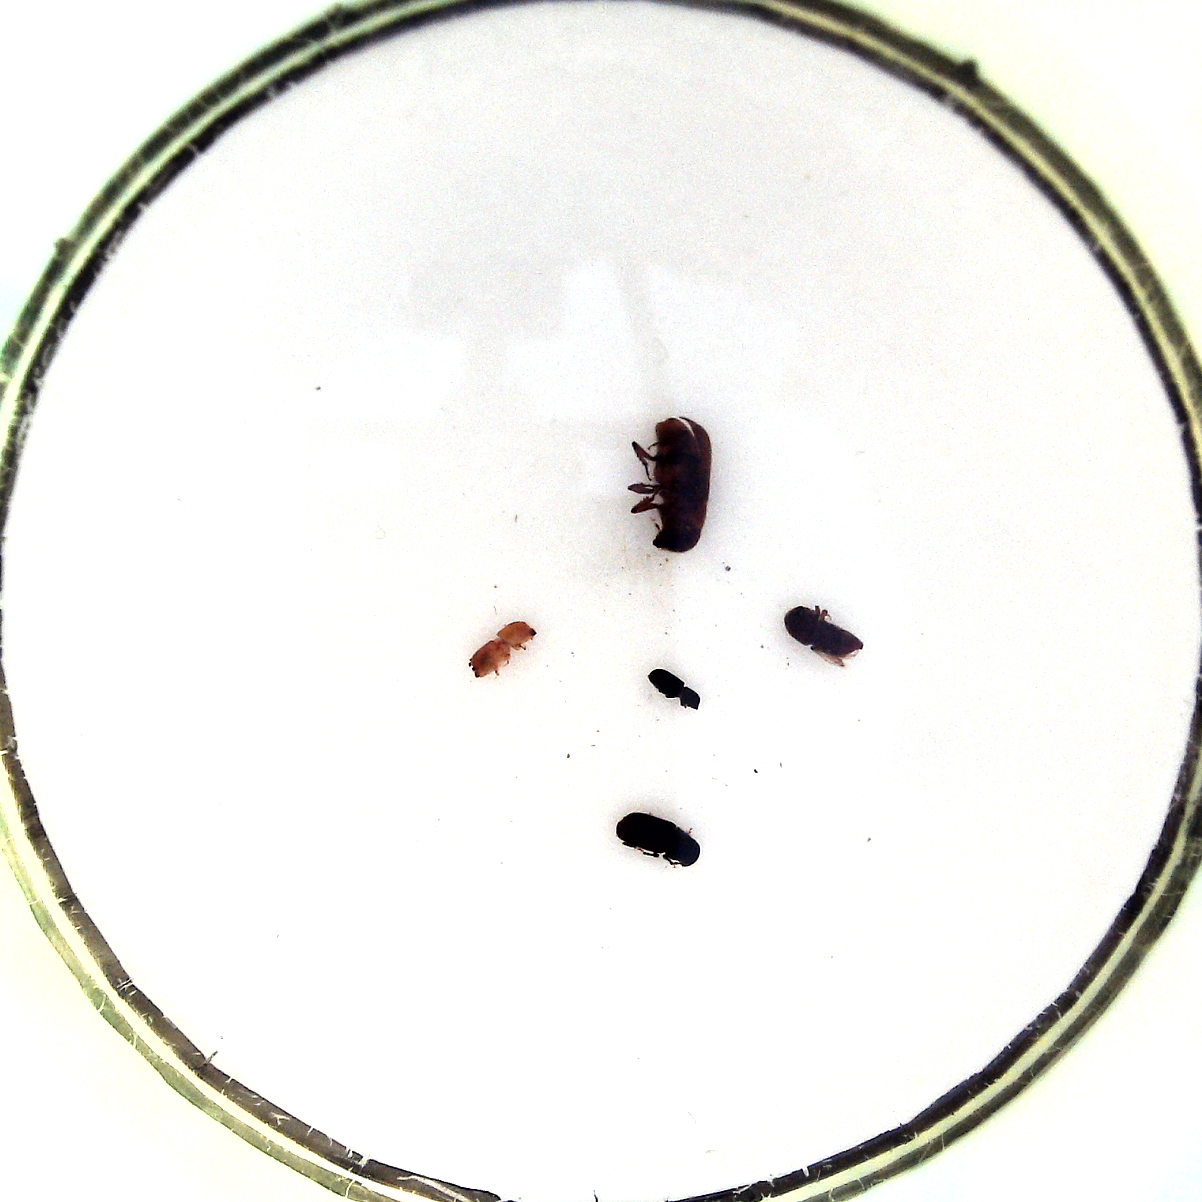Leconte: (626, 418, 713, 556)
Linnaeus: (782, 602, 867, 667)
acuminatus: (465, 615, 539, 684)
armandi: (616, 807, 703, 872)
coleoptera: (642, 663, 704, 717)
